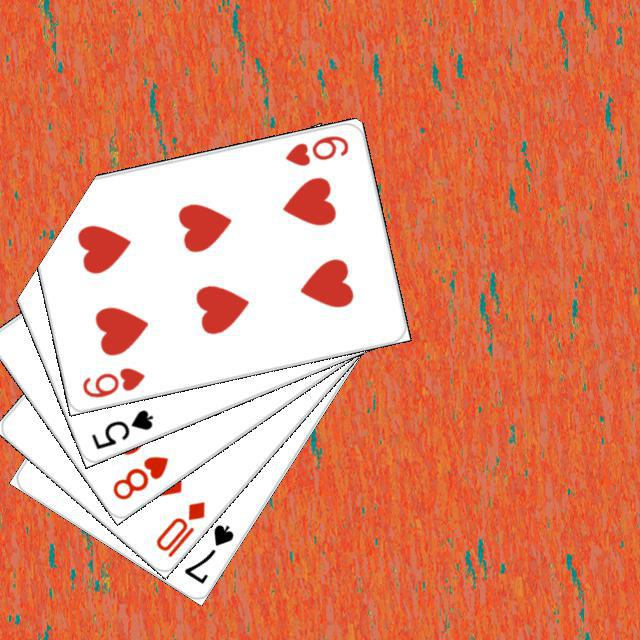10d: (150, 496, 207, 560)
5s: (86, 404, 155, 451)
6h: (77, 362, 147, 400), (280, 130, 350, 168)
7s: (179, 519, 236, 586)
8h: (107, 450, 170, 502)
